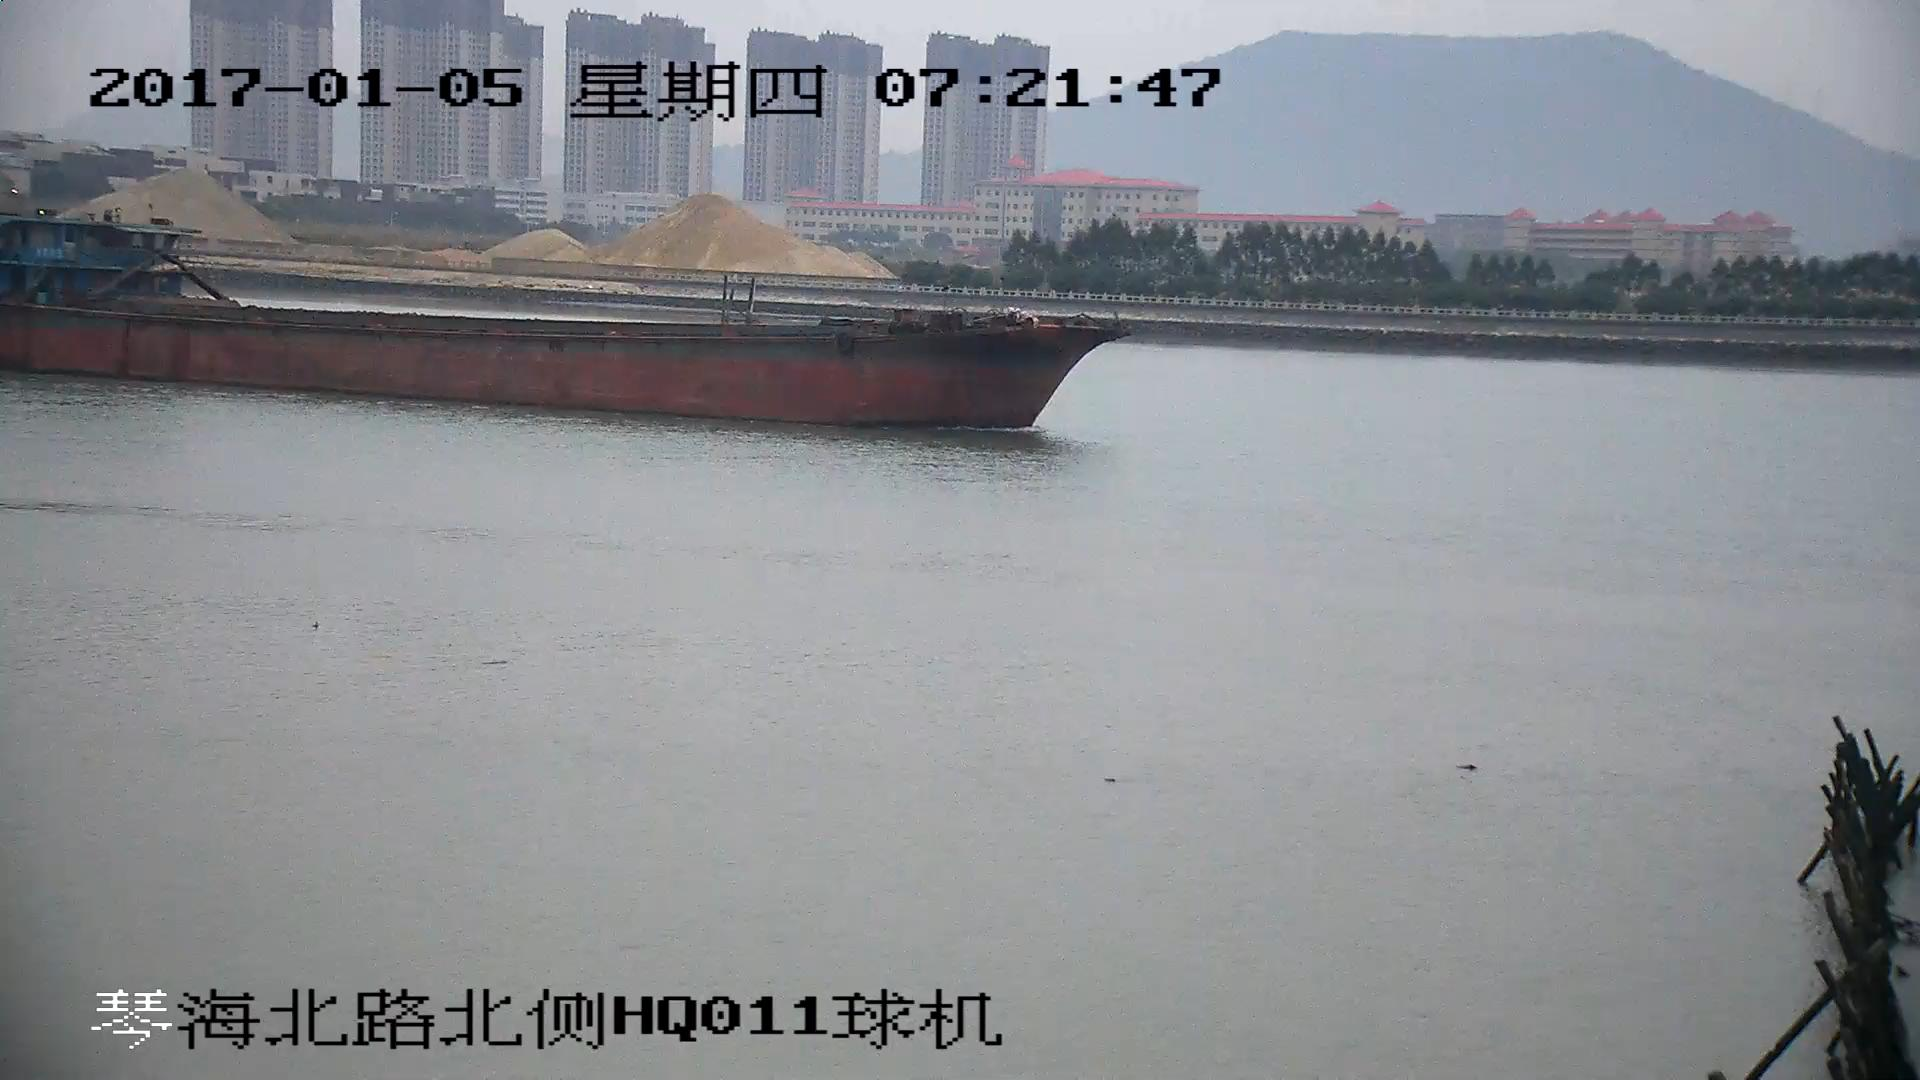bulk cargo carrier: (1, 215, 1131, 427)
